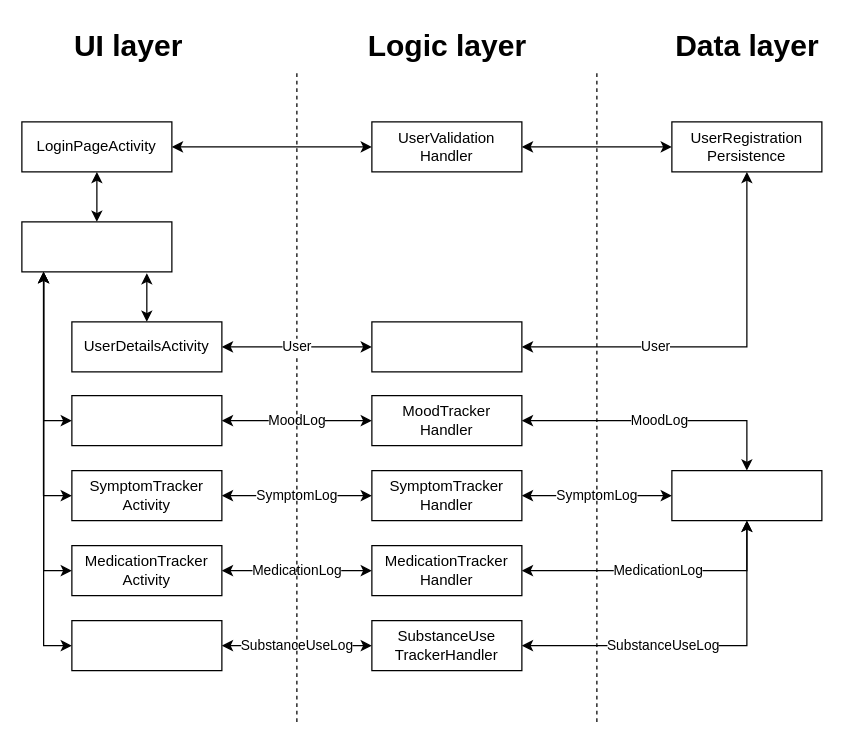
This 856x745 diagram has some shape labels left out. The centre of each missing label's shape, as x and y in pixels:
"HomePageActivity" belongs at pixel 96 246.
"MoodTrackerActivity" belongs at pixel 146 420.
"SubstanceUse TrackerActivity" belongs at pixel 146 645.
"UserDetailsHandler" belongs at pixel 446 346.
"WellnessLog Persistence" belongs at pixel 746 495.
